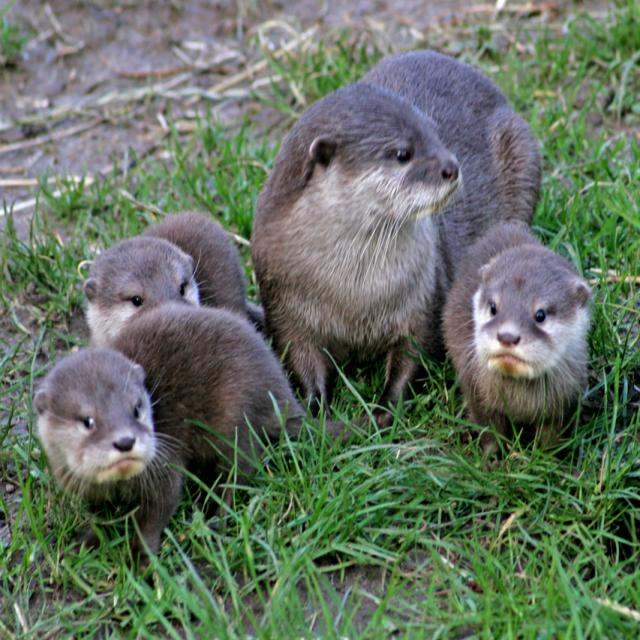otter: (253, 51, 540, 420), (38, 309, 308, 550), (446, 223, 592, 440), (85, 212, 264, 364)
